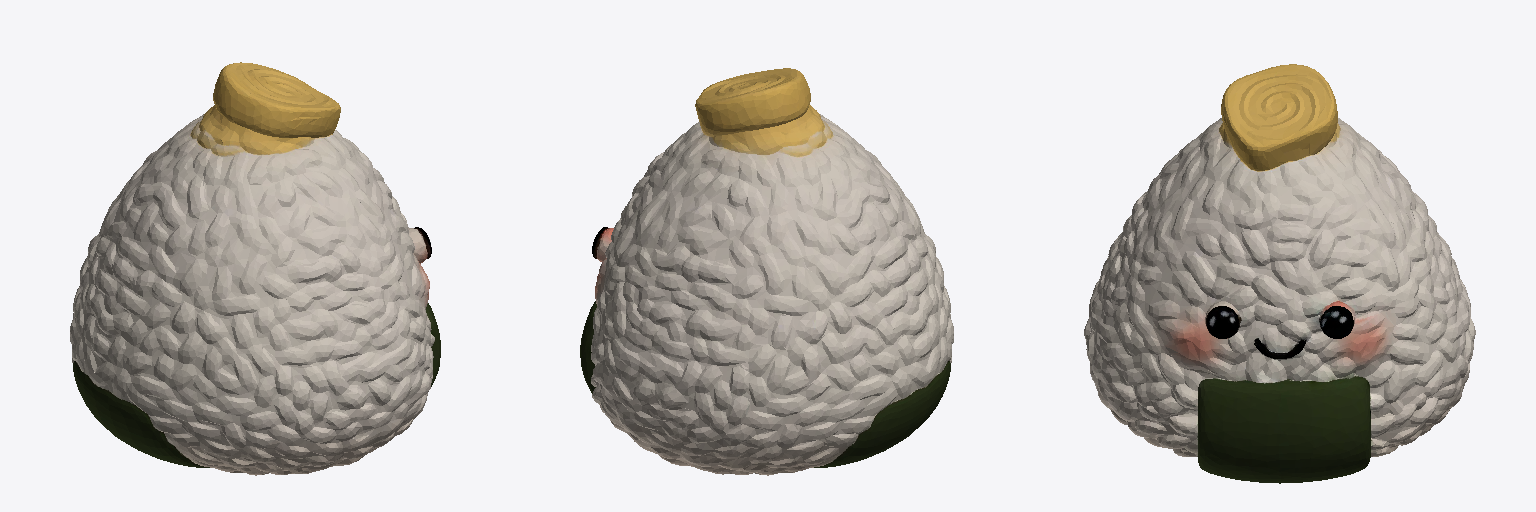
3 renders of one model, left to right at view 1: azimuth 30°, elevation 25°; view 2: azimuth 150°, elevation 25°; view 3: azimuth 270°, elevation 25°, orthographic.
Parts seen in each view (by area): view 1: tripo_node_52fc4839-6062-446c-b0a5-b35151f30bc1; view 2: tripo_node_52fc4839-6062-446c-b0a5-b35151f30bc1; view 3: tripo_node_52fc4839-6062-446c-b0a5-b35151f30bc1.
Boxes of the visible parts, x1,y1,x2,y2 form: tripo_node_52fc4839-6062-446c-b0a5-b35151f30bc1: [70, 62, 440, 475]; tripo_node_52fc4839-6062-446c-b0a5-b35151f30bc1: [580, 68, 953, 475]; tripo_node_52fc4839-6062-446c-b0a5-b35151f30bc1: [1084, 64, 1475, 483].
Bounding box in the file's own units: 0.9324 × 0.9999 × 0.9792.
Materials: 1 (1 with a texture image).